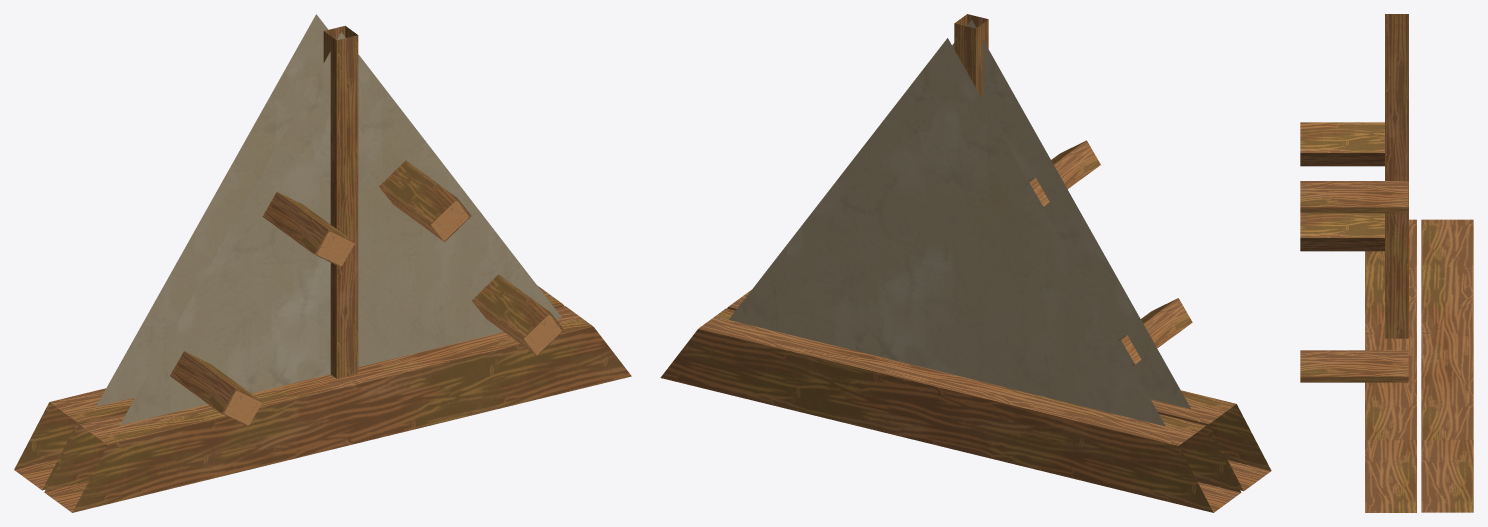
File: Roof_Front_Brick2.obj
3 views of the same model, side by side, from view 1: azimuth 30°, elevation 25°; view 2: azimuth 150°, elevation 25°; view 3: azimuth 270°, elevation 25° (orthographic). The views are drawn at different scales.
Visible parts, largest first — view 1: Roof_Front_Brick2; view 2: Roof_Front_Brick2; view 3: Roof_Front_Brick2.
Boxes of the visible parts, box(x1,y1,x2,y2) form: Roof_Front_Brick2: box(14, 14, 631, 512); Roof_Front_Brick2: box(660, 14, 1271, 512); Roof_Front_Brick2: box(1300, 14, 1473, 512).
Bounding box in the file's own units: 2.61 × 1.77 × 0.7513.
